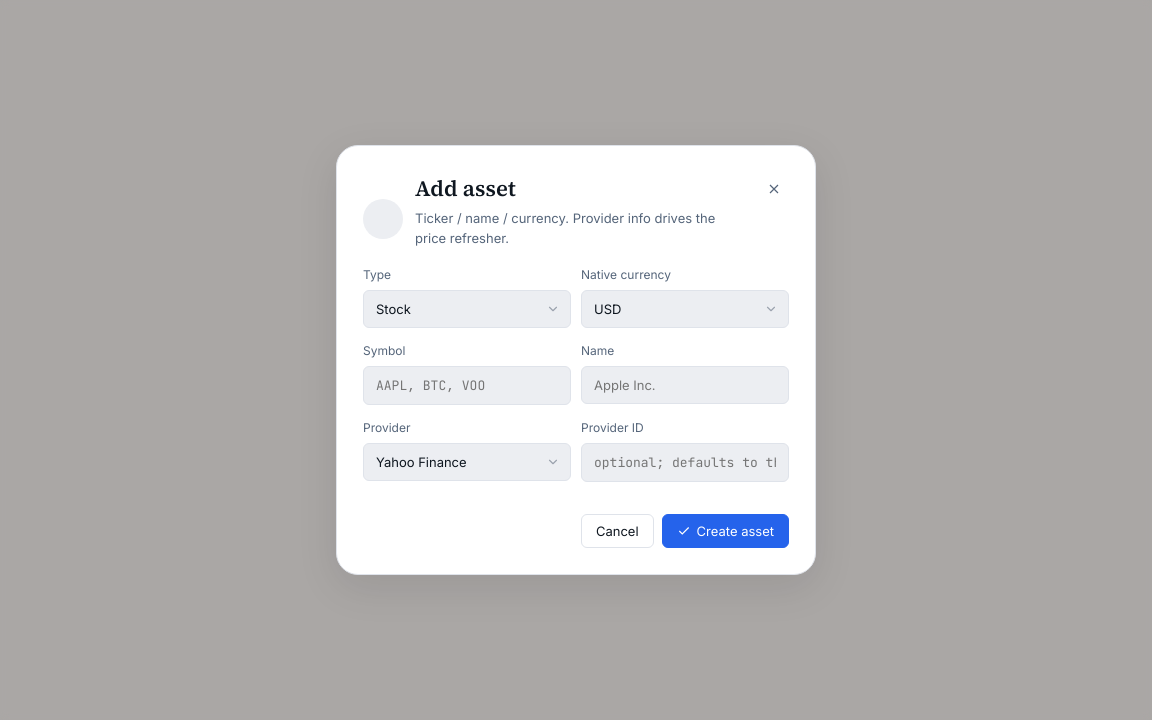
Test: AssetModal — type → provider auto-snap › switching back to Stock snaps Provider to yahoo
Select "Crypto" in the dropdown below "Type" at [467, 309], box [363,290,571,328]
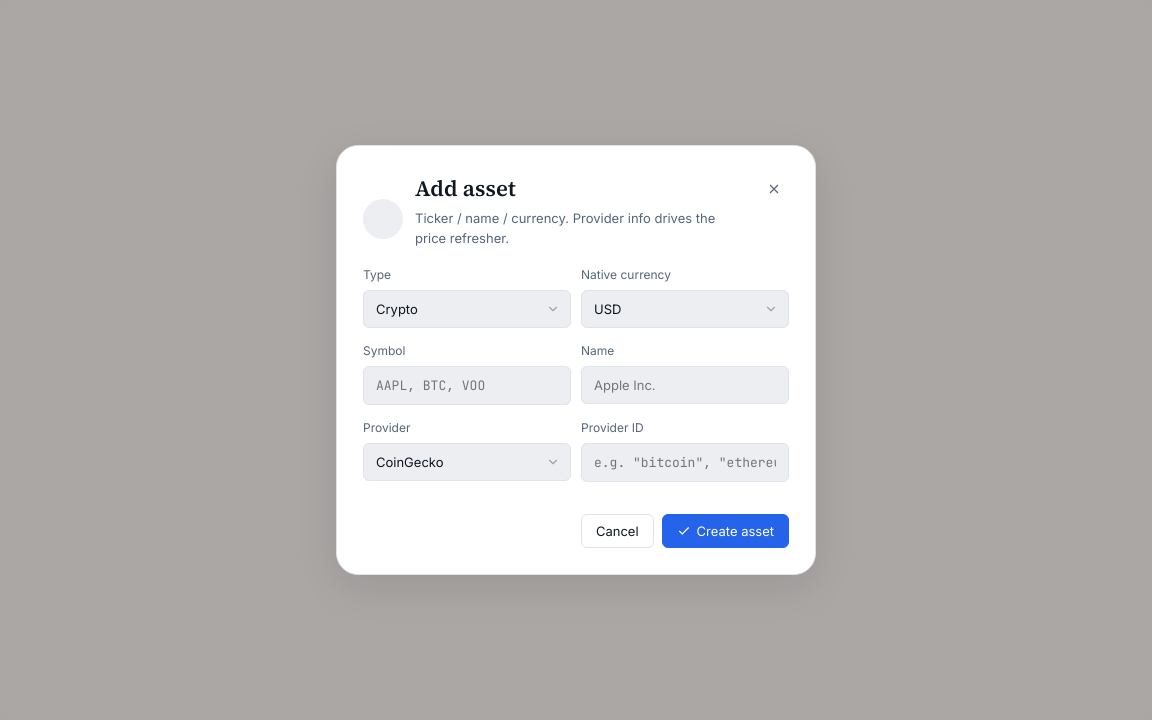
Expected: the dropdown below "Provider ID" shows "CoinGecko", [363,443,571,481]
Select "Stock" in the dropdown below "Type" at [467, 309], box [363,290,571,328]
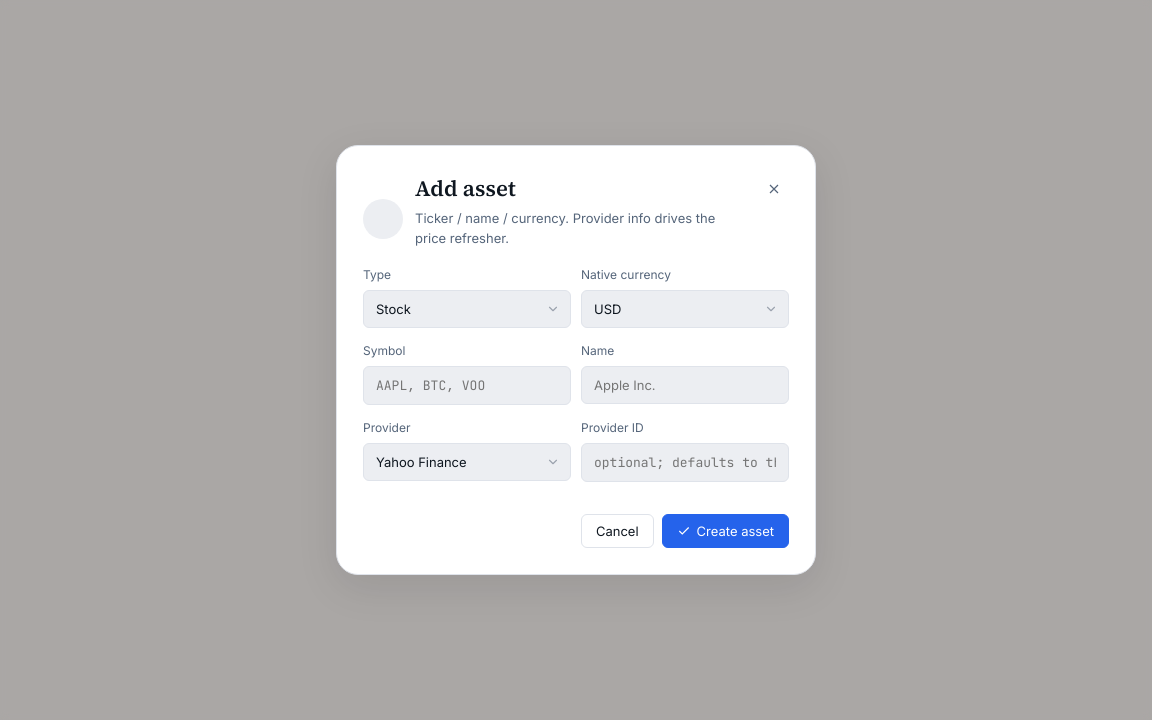
Expected: the dropdown below "Provider ID" shows "Yahoo Finance", [363,443,571,481]
